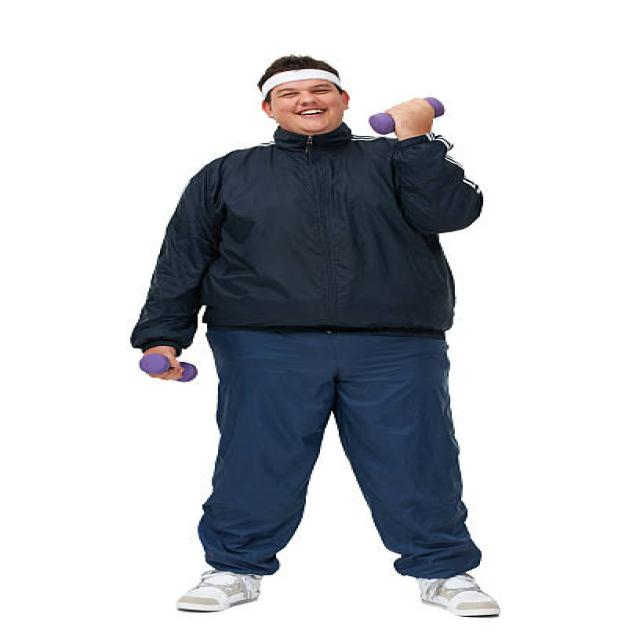Edited images: (104, 48, 531, 624)
